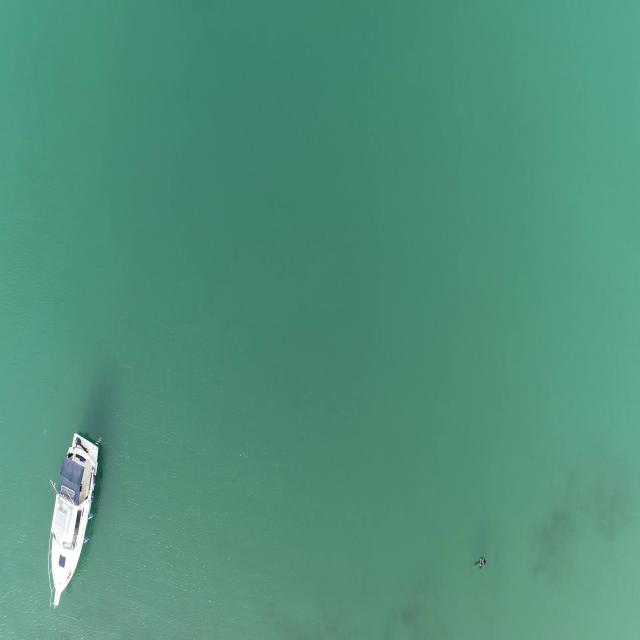boat: (44, 430, 104, 610)
person: (473, 552, 488, 574)
